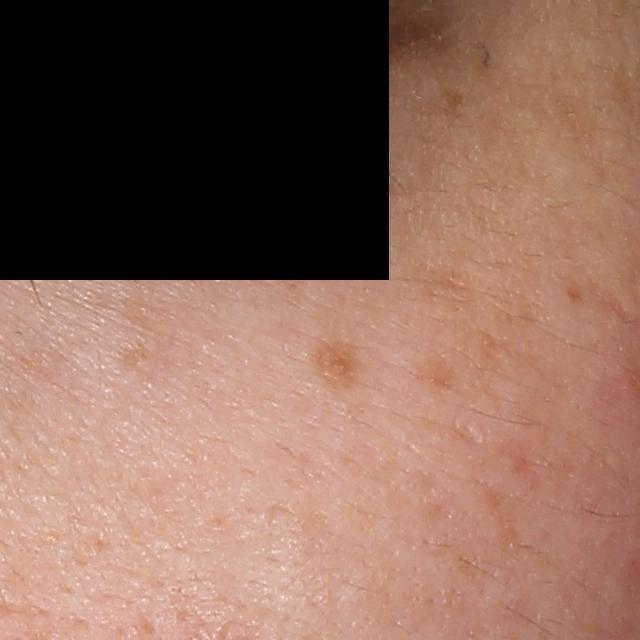melasma: (539, 63, 616, 191), (407, 263, 485, 313), (476, 329, 538, 381), (414, 352, 469, 407), (310, 340, 363, 392), (432, 89, 469, 129), (122, 343, 157, 370)
